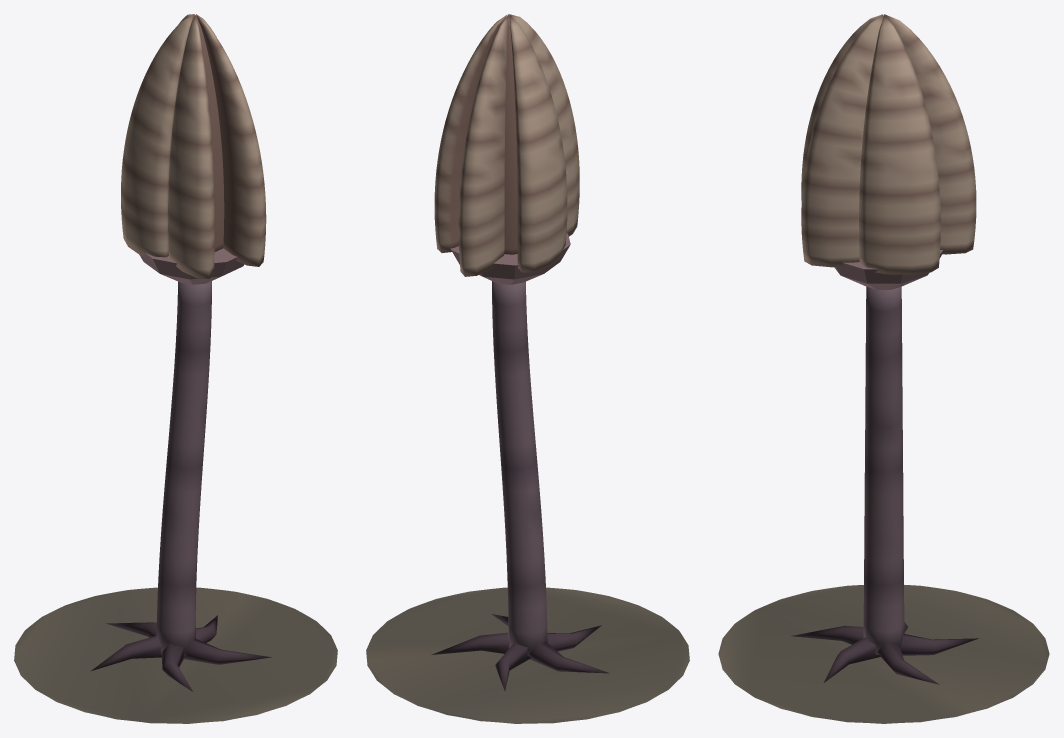
The model's file is Cupressocrinites.fbx.
3 views of the same model, side by side, from view 1: azimuth 30°, elevation 25°; view 2: azimuth 150°, elevation 25°; view 3: azimuth 270°, elevation 25° (orthographic).
Visible parts, largest first — view 1: Cupressocrinites; view 2: Cupressocrinites; view 3: Cupressocrinites.
Boxes of the visible parts, x1,y1,x2,y2 form: Cupressocrinites: [14, 14, 337, 723]; Cupressocrinites: [366, 14, 689, 723]; Cupressocrinites: [718, 14, 1049, 723].
Bounding box in the file's own units: 0.8 × 1.73 × 0.8.
